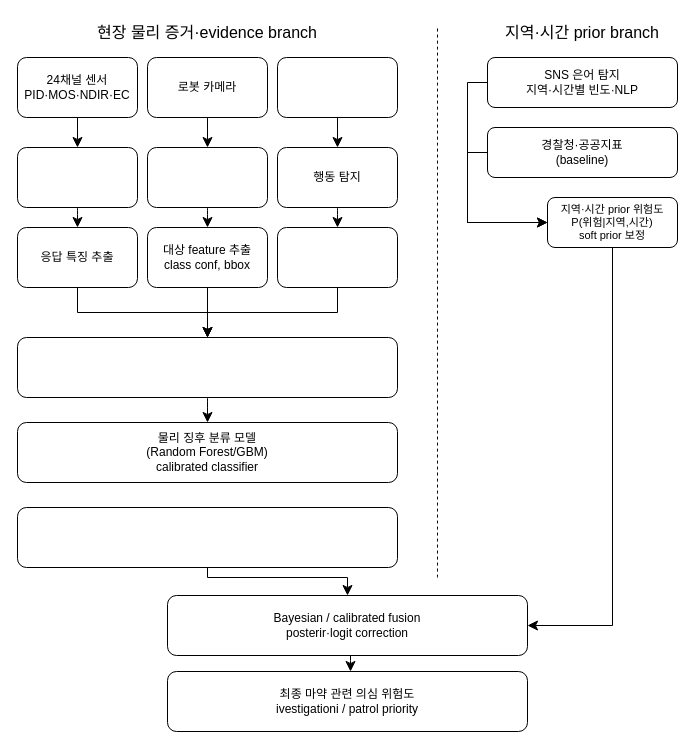
The diagram is 695 pixels wide and 749 high, and some of its shapes have lost their labels. Each missing label, with the box of its shape:
CCTV: (276, 56, 398, 118)
Multimodal feature fusion concat(sensor + vision): (16, 336, 398, 398)
객체·장면 탐지 의심물체·포장재 장소 맥락 고려: (146, 146, 268, 208)
센서 전처리·보정 baseline 온습도 노이즈 필터: (16, 146, 138, 208)
행동 feature 추출: (276, 226, 398, 288)
현장 의심 징후 확률 P(징후|센서,영상) physical evidence likelihood: (16, 506, 398, 568)
